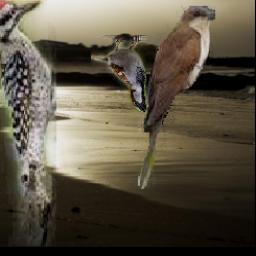Cuckoo: (138, 6, 215, 189)
Sparrow: (92, 36, 147, 113)
Woodpecker: (0, 0, 56, 246)
